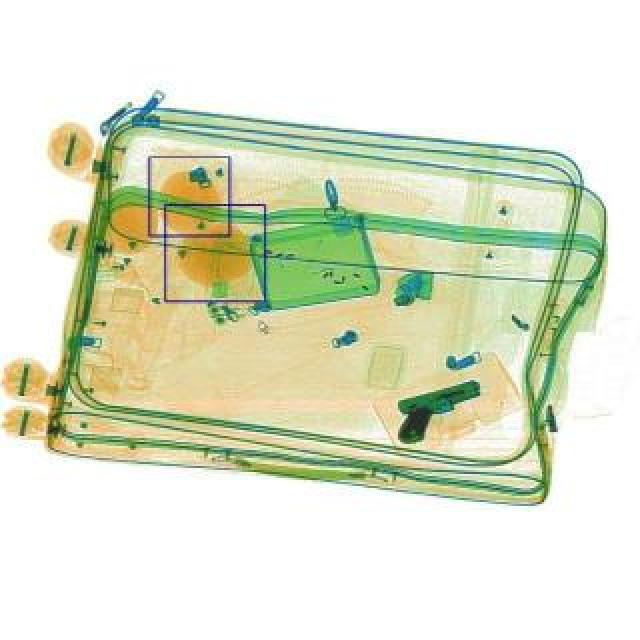gun: (386, 376, 490, 444)
